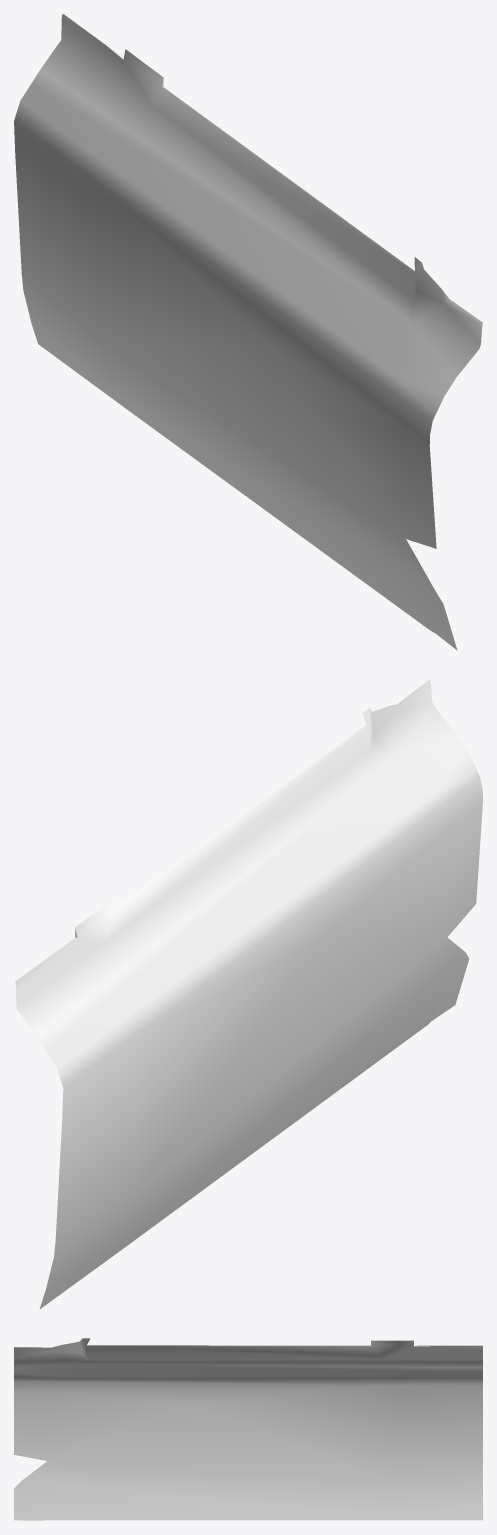
3 views of the same model, one above another, from view 1: azimuth 30°, elevation 25°; view 2: azimuth 150°, elevation 25°; view 3: azimuth 270°, elevation 25° (orthographic). The views are drawn at different scales.
Bounding box in the file's own units: 0.0877 × 0.5193 × 1.17.
Materials: 1 (1 with a texture image).
